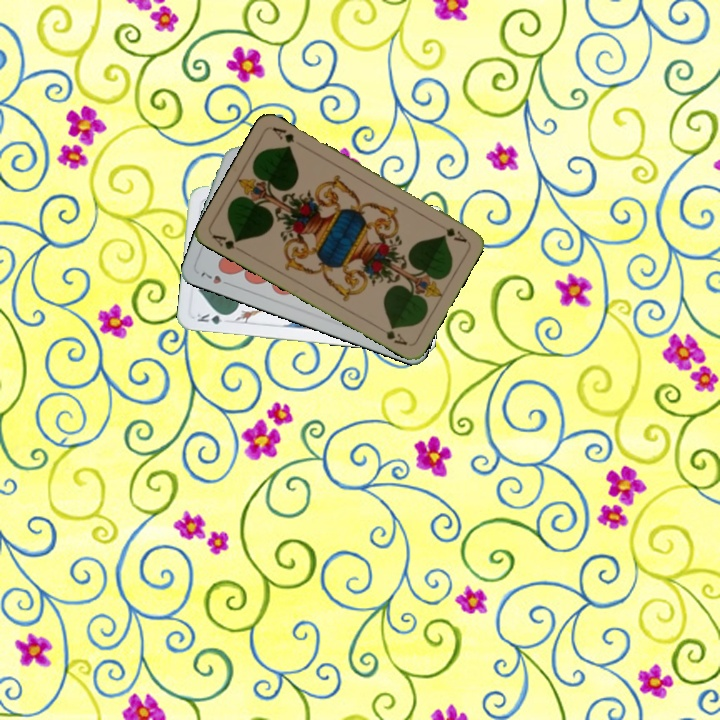GA: (208, 231, 247, 255), (442, 223, 469, 245)
GK: (193, 308, 232, 327)
H7: (196, 267, 234, 289)
